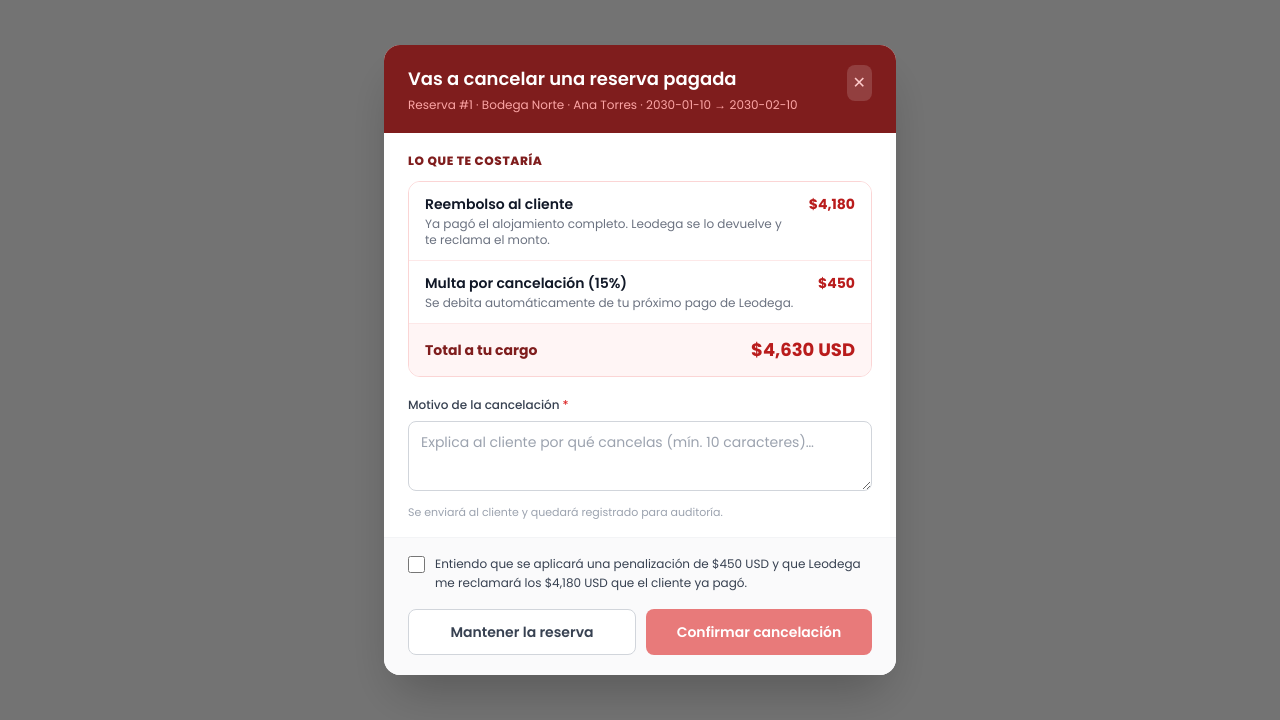
CancelarReservaModal › highlights the acceptance checkbox and does not submit when it is unchecked
Expected: the text "$4,180" is shown, [809,194,855,214]
Type "Motivo suficientemente largo" into the text box with placeholder "Explica al cliente por qué cancelas (mín. 10 caracteres)…".
click(640, 456); type("Motivo suficientemente largo")  # box [408,421,872,491]
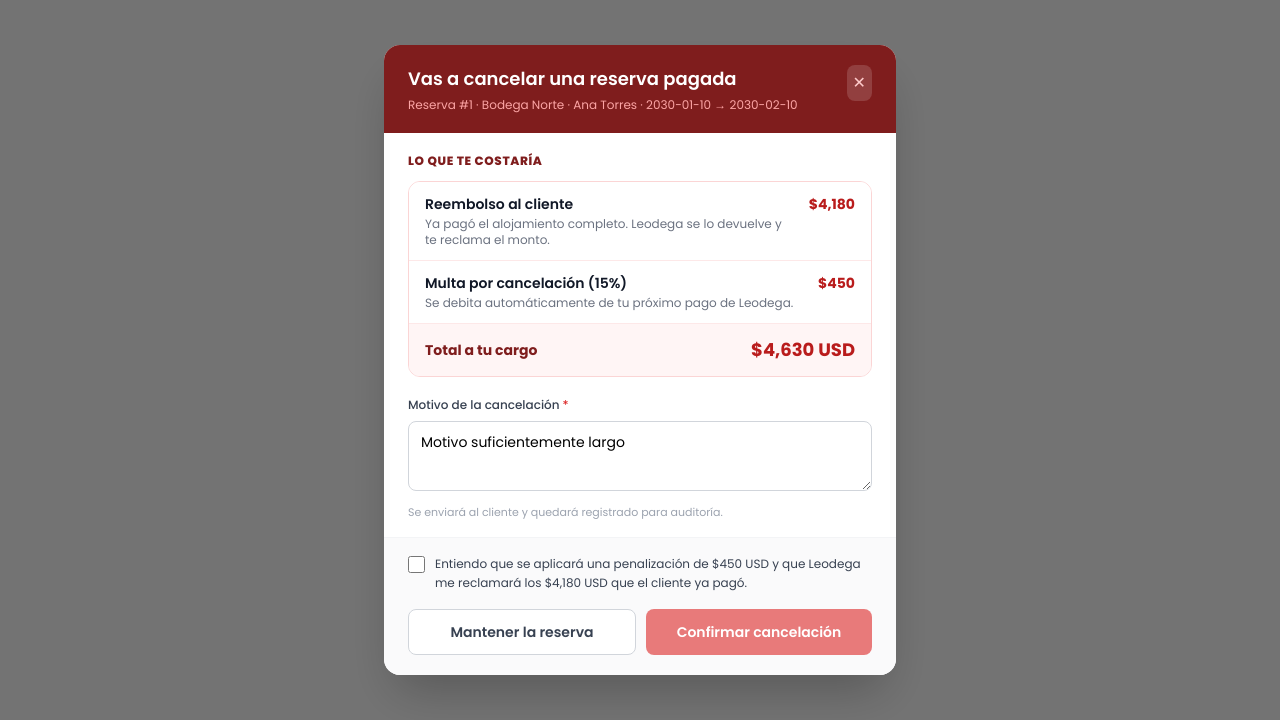
Click the button "Confirmar cancelación".
click(759, 632)  # box [646,609,872,655]
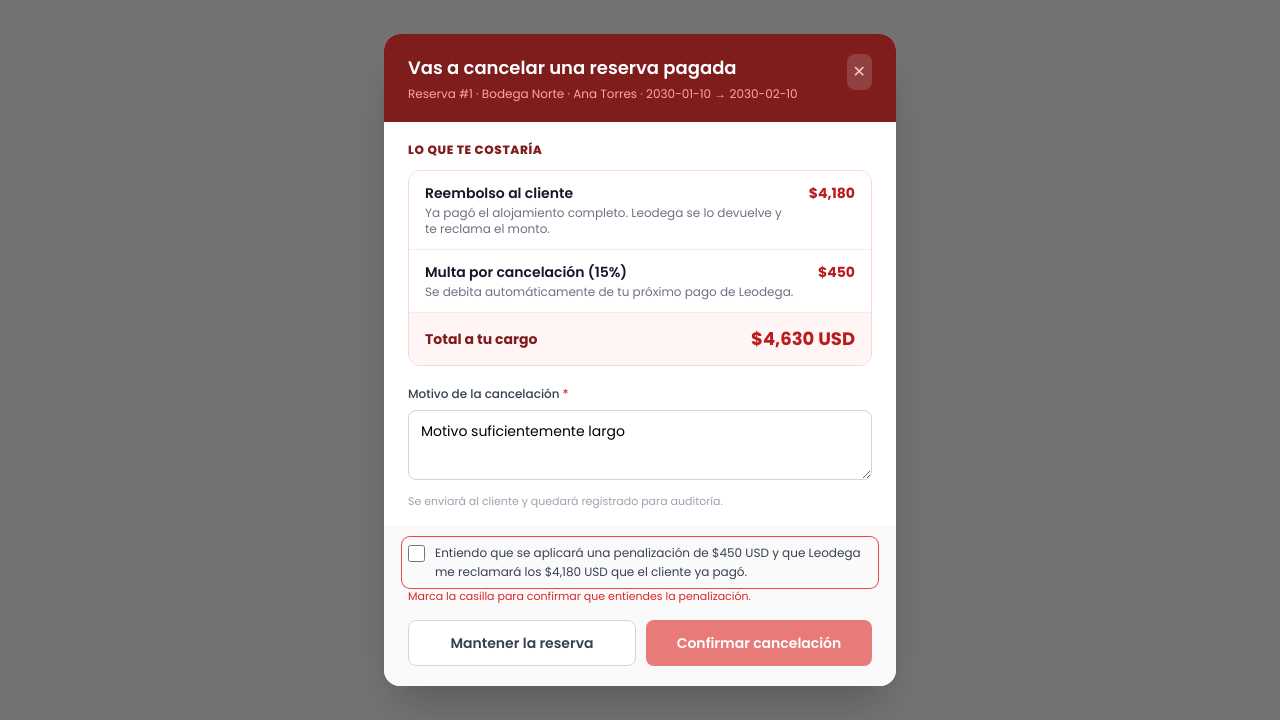
Expected: the text "Marca la casilla para confirmar que entiendes la penalización." is shown, [408,588,751,604]
